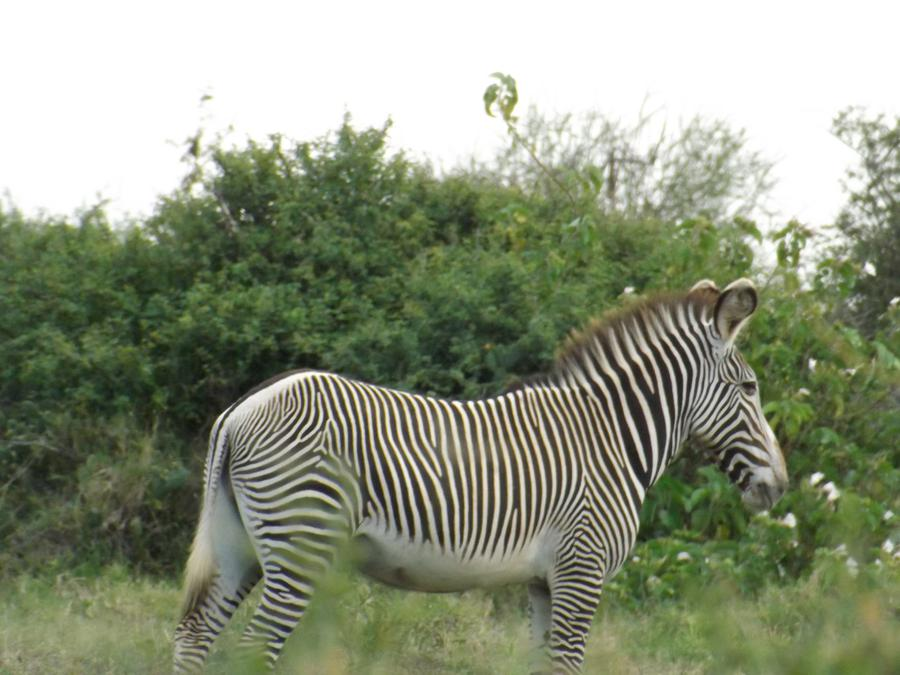zebra_grevys: (208, 355, 615, 578)
